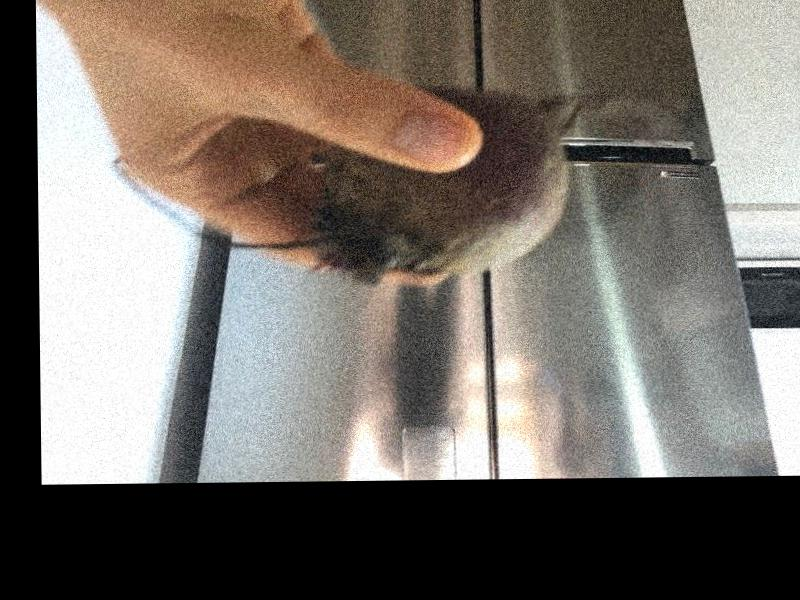Beet: (112, 86, 613, 288)
